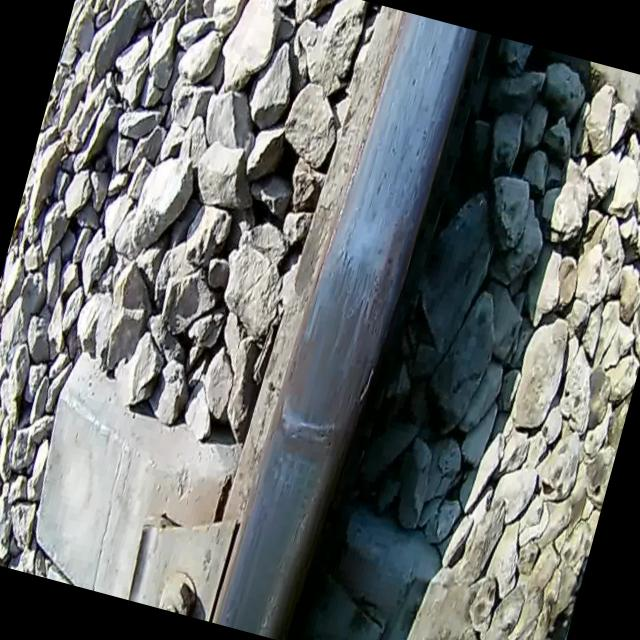Spallings: (352, 352, 380, 408)
Squats: (254, 228, 410, 489)
